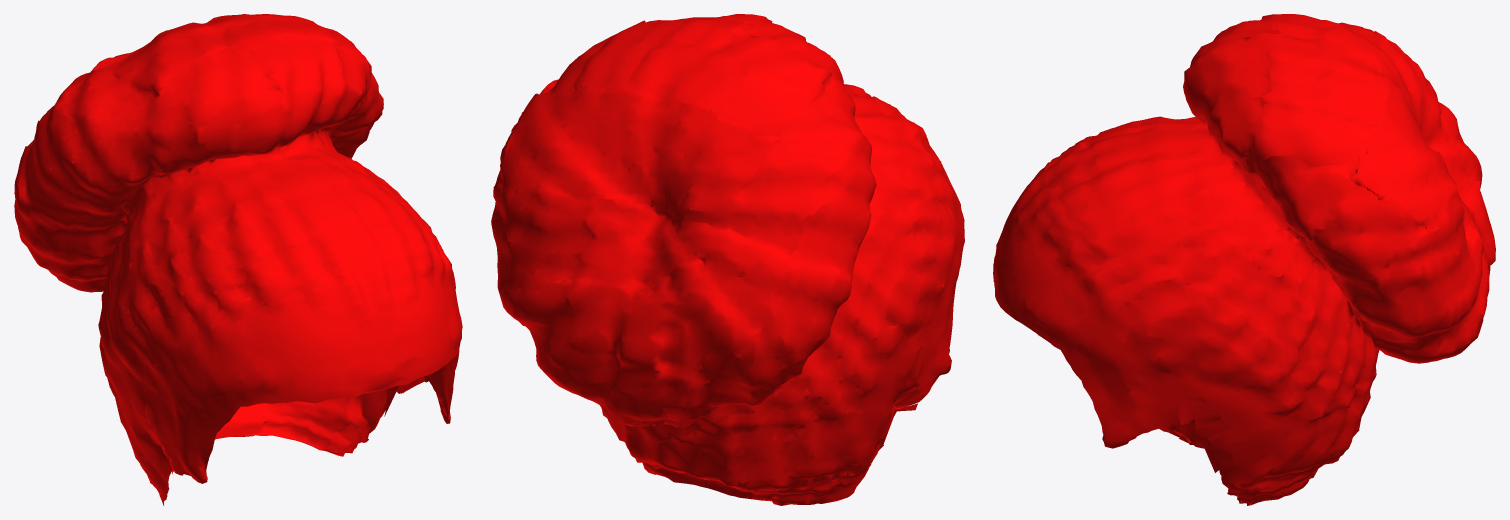
The model's file is elvs_braid_bun_F.glb.
3 views of the same model, side by side, from view 1: azimuth 30°, elevation 25°; view 2: azimuth 150°, elevation 25°; view 3: azimuth 270°, elevation 25° (orthographic). The views are drawn at different scales.
Size of the model in its own units: 0.1967 by 0.2415 by 0.2552.
Materials: 1 (1 with a texture image).
